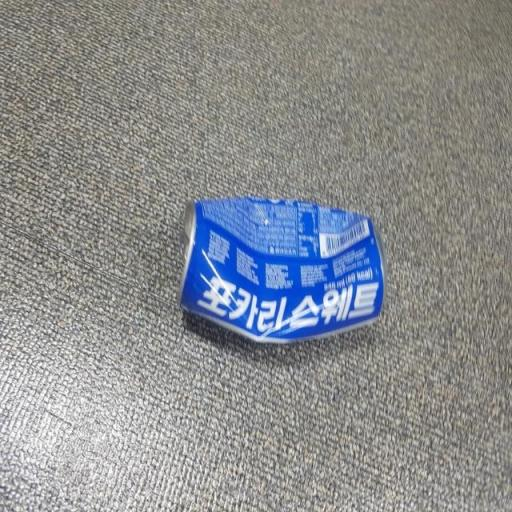metal: (148, 155, 404, 381)
